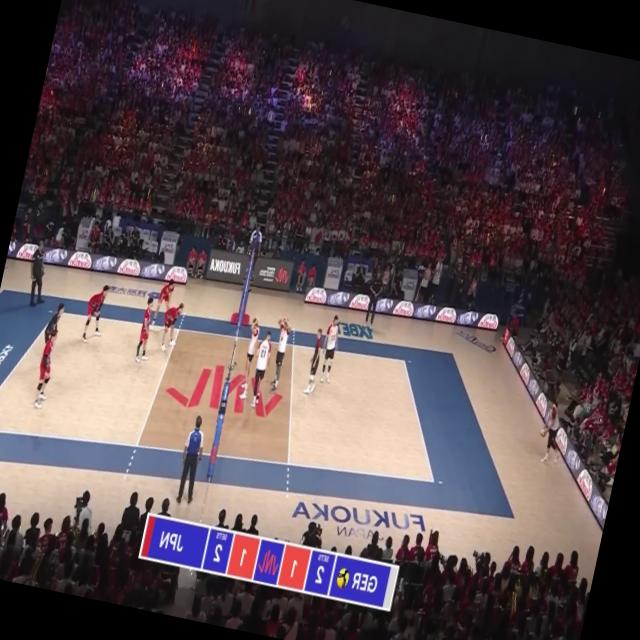referee: (170, 413, 212, 508)
team_one: (534, 395, 572, 468), (234, 317, 262, 401), (264, 314, 292, 393), (246, 330, 274, 408), (316, 312, 343, 382), (304, 327, 328, 396)
team_two: (30, 328, 60, 412), (78, 281, 111, 347), (132, 296, 159, 362), (37, 302, 64, 366), (148, 276, 176, 336), (156, 300, 184, 354)
